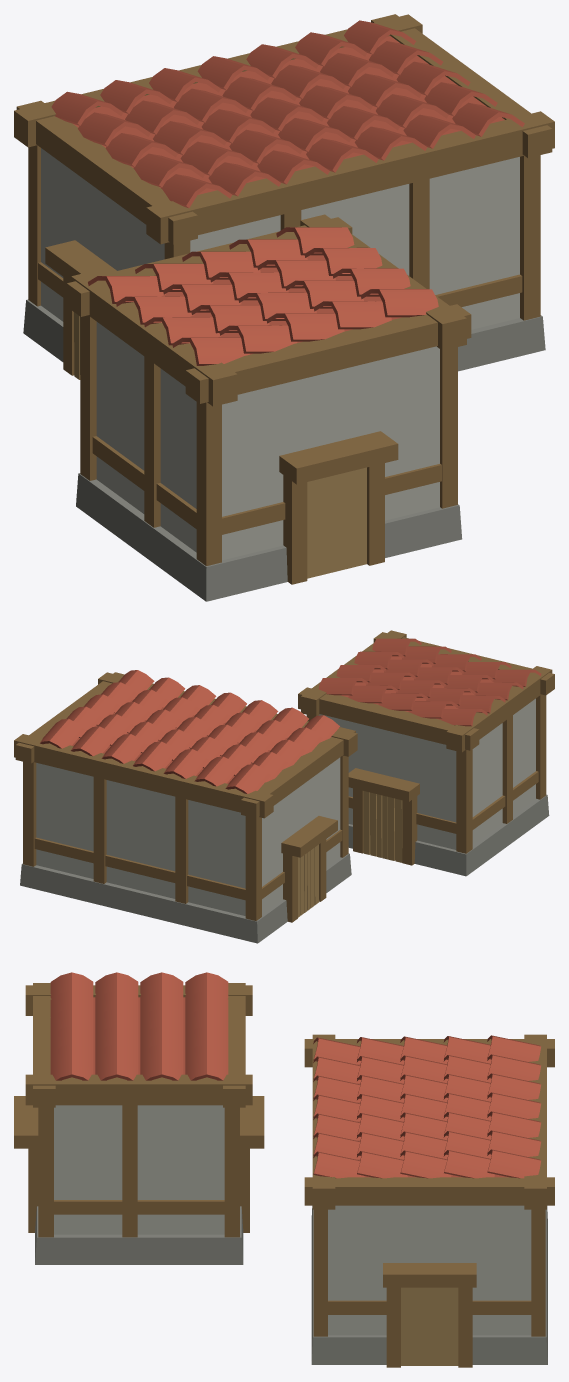
Rendered from Casas.glb.
3 views of the same model, one above another, from view 1: azimuth 30°, elevation 25°; view 2: azimuth 150°, elevation 25°; view 3: azimuth 270°, elevation 25° (orthographic). The views are drawn at different scales.
Visible parts, largest first — view 1: CASA2, CASA1; view 2: CASA1, CASA2; view 3: CASA1, CASA2.
Boxes of the visible parts, x1,y1,x2,y2 form: CASA2: [66, 214, 471, 601]; CASA1: [14, 14, 554, 379]; CASA1: [14, 670, 357, 943]; CASA2: [298, 630, 554, 876]; CASA1: [304, 1034, 554, 1367]; CASA2: [14, 972, 264, 1264].
Bounding box in the file's own units: 1.35 × 0.5908 × 1.46.
